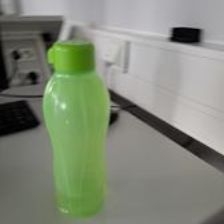bottle: (41, 35, 110, 217)
